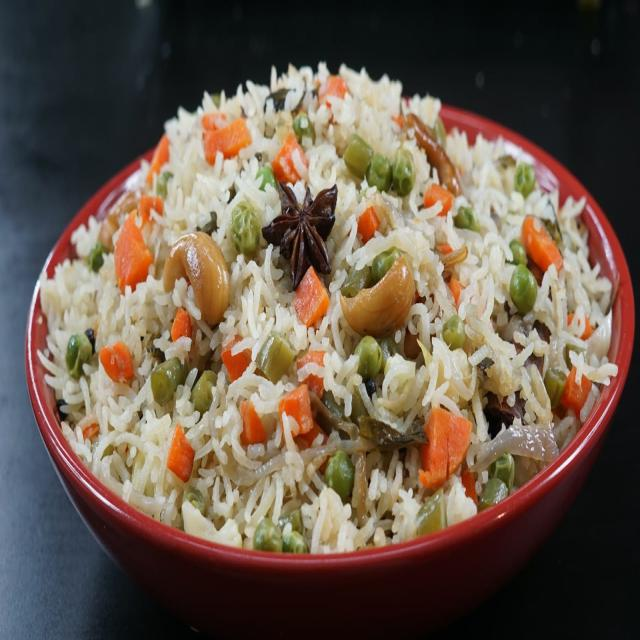veg palav: (34, 41, 640, 573)
